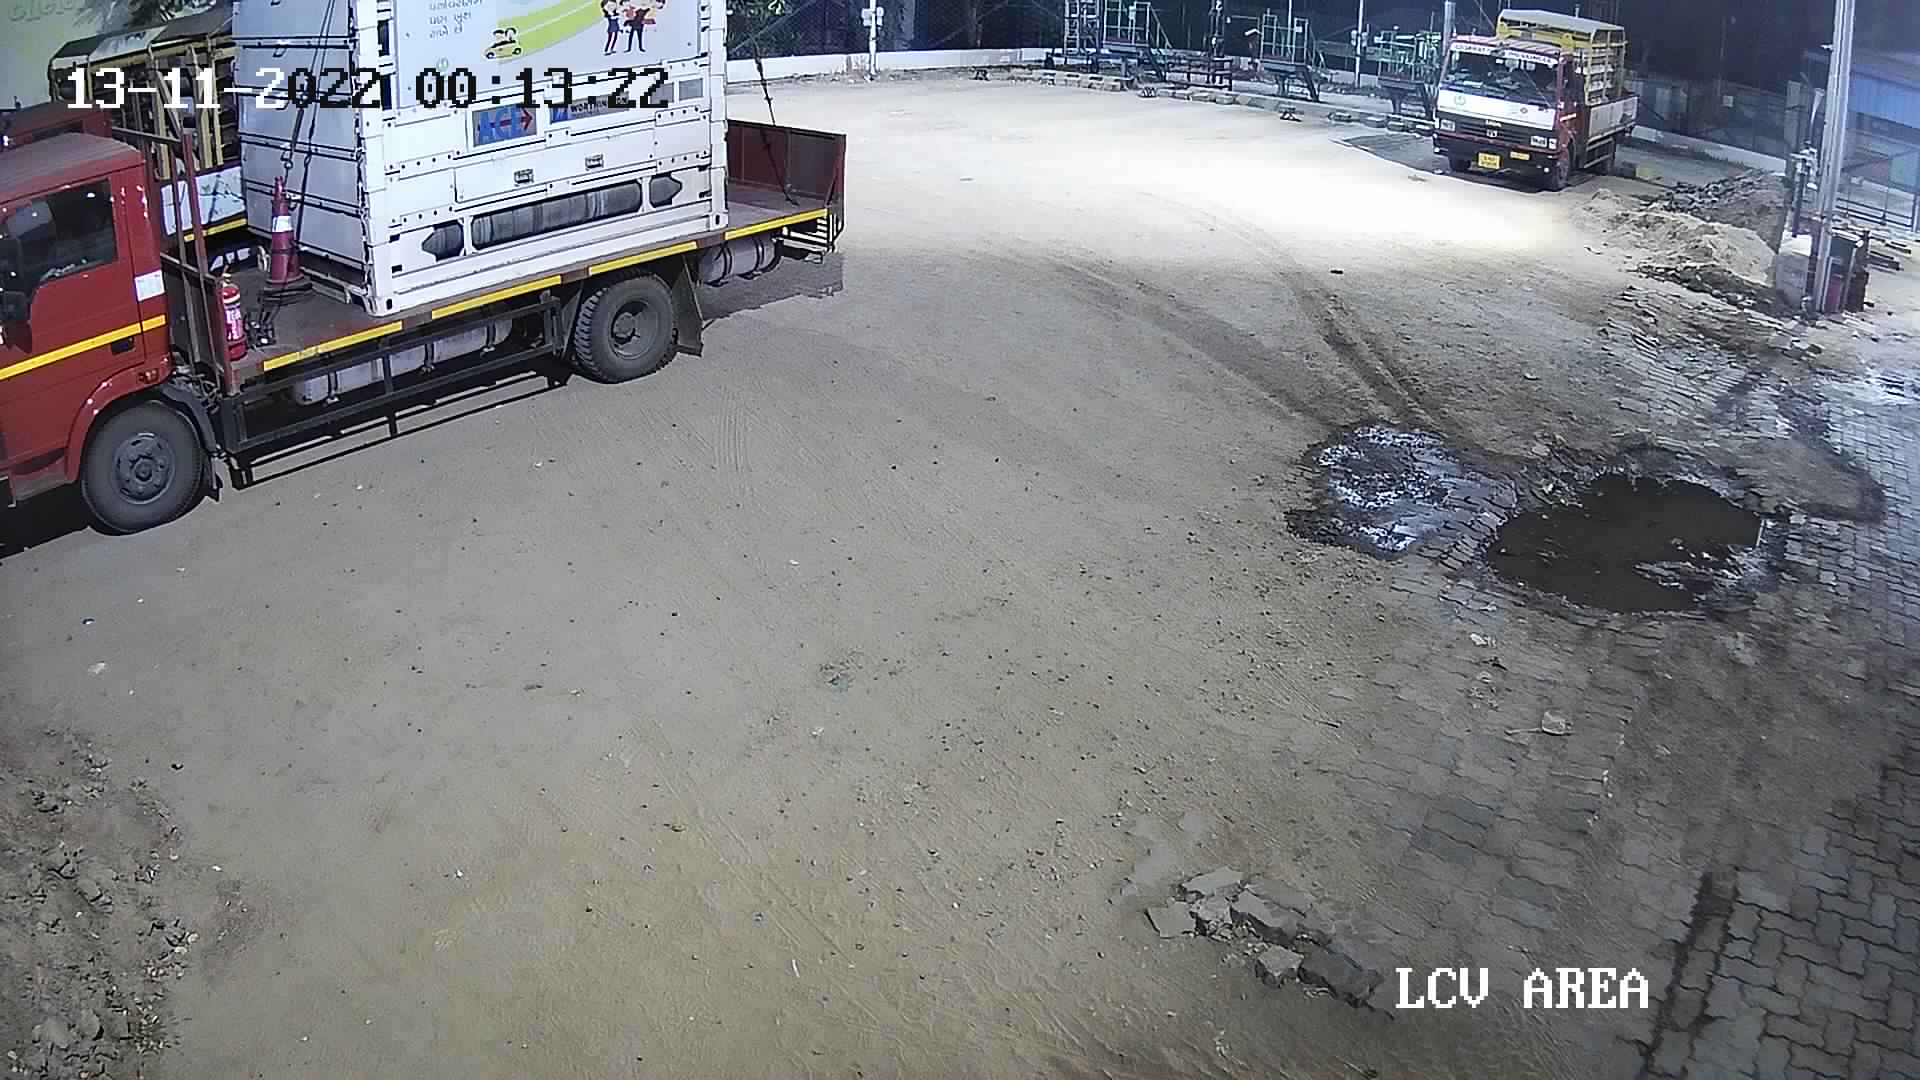HMV: (0, 3, 858, 551), (0, 0, 261, 290), (1410, 1, 1658, 196)
